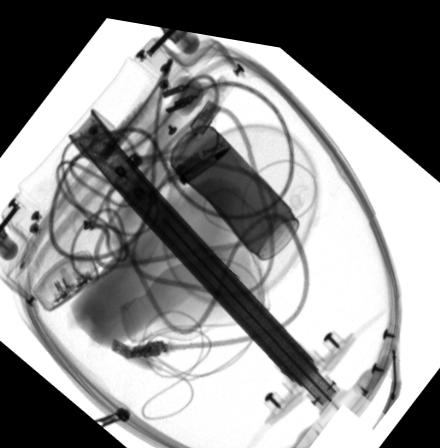Bullet: (178, 138, 232, 178)
